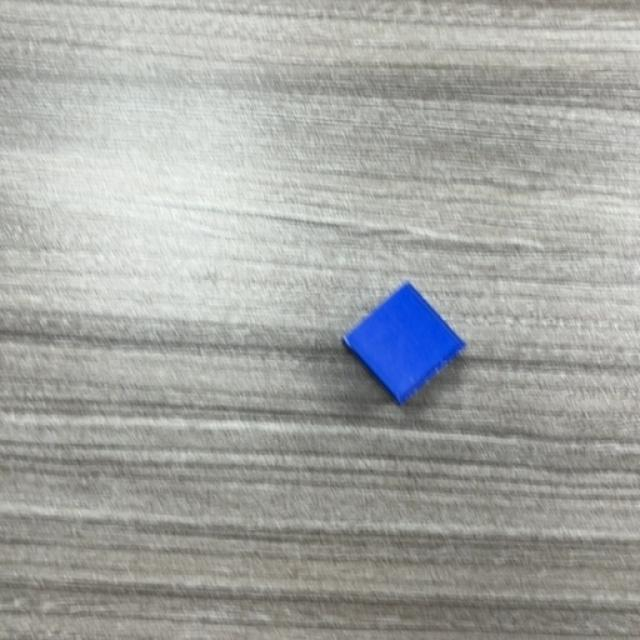Azul: (341, 284, 466, 406)
